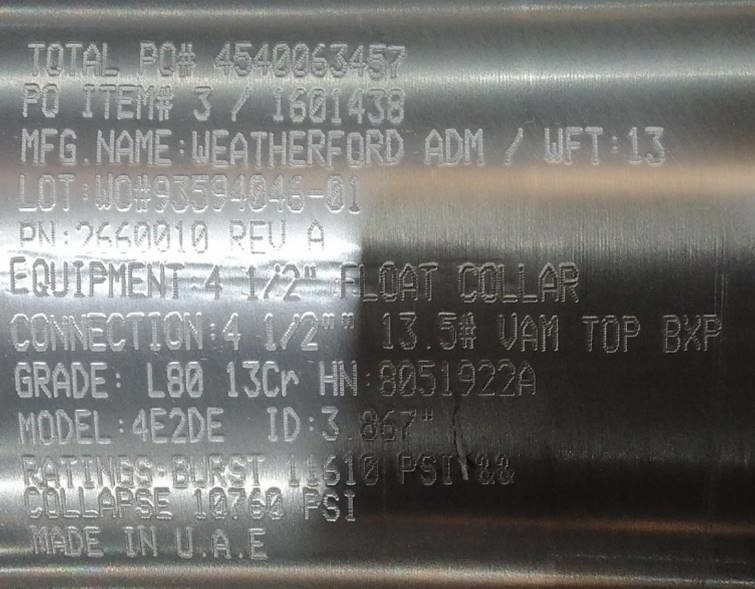character: (227, 76, 258, 124), (698, 308, 727, 356), (184, 84, 219, 123), (343, 172, 372, 218), (513, 257, 539, 307), (535, 257, 562, 305), (640, 123, 669, 167), (433, 308, 462, 352), (181, 306, 208, 353), (455, 261, 483, 306), (7, 309, 35, 354), (459, 124, 488, 167), (264, 126, 290, 172), (46, 310, 72, 356), (49, 402, 76, 446), (501, 125, 529, 167), (315, 400, 343, 442), (583, 123, 608, 170), (541, 124, 567, 169), (7, 253, 34, 296), (280, 262, 307, 305), (322, 170, 347, 216), (494, 258, 519, 304), (419, 126, 447, 167), (392, 309, 419, 351), (575, 312, 602, 354), (89, 406, 116, 448), (478, 258, 501, 307), (167, 170, 192, 215), (659, 311, 684, 356), (494, 311, 522, 351), (386, 40, 413, 81), (151, 82, 178, 123), (18, 123, 42, 169), (678, 310, 702, 356), (395, 356, 419, 402), (188, 171, 213, 215), (123, 308, 148, 352), (381, 124, 407, 166), (617, 314, 643, 356), (238, 355, 264, 397), (356, 260, 380, 305), (416, 259, 440, 304), (93, 124, 118, 167), (111, 123, 136, 166), (161, 308, 186, 351), (375, 406, 403, 444), (323, 126, 346, 172), (130, 169, 153, 215), (29, 251, 51, 299), (259, 260, 283, 304), (84, 310, 108, 354), (219, 310, 243, 354), (413, 355, 437, 399), (364, 39, 389, 81), (53, 171, 78, 213), (47, 258, 72, 300), (371, 359, 399, 396), (112, 169, 135, 214), (376, 260, 399, 305), (559, 260, 582, 305), (28, 310, 51, 355), (97, 38, 121, 81), (132, 127, 156, 170), (266, 172, 290, 215), (264, 216, 288, 259), (536, 311, 560, 354), (32, 358, 56, 401), (454, 356, 478, 399), (305, 85, 330, 126), (360, 128, 385, 169), (104, 258, 129, 299), (316, 357, 341, 398), (15, 407, 40, 448), (72, 219, 98, 258), (184, 406, 210, 445), (152, 126, 175, 170), (562, 123, 584, 169), (337, 258, 360, 302), (133, 81, 157, 123), (91, 169, 115, 211), (208, 173, 232, 215), (105, 308, 126, 356), (49, 358, 73, 400), (148, 404, 172, 446), (278, 404, 302, 446), (142, 260, 167, 300), (11, 359, 36, 399), (183, 359, 208, 399), (131, 483, 156, 523), (20, 486, 47, 523), (262, 485, 289, 522), (151, 171, 173, 216), (227, 127, 250, 170), (457, 307, 478, 354), (113, 83, 137, 124), (189, 126, 213, 167), (86, 359, 110, 400), (494, 358, 518, 399), (53, 485, 81, 520), (134, 38, 159, 77), (286, 40, 311, 79), (383, 86, 408, 125), (274, 312, 299, 351), (515, 313, 540, 352), (396, 406, 421, 445), (209, 126, 231, 170), (305, 169, 327, 213), (309, 38, 332, 80), (38, 121, 59, 167), (296, 311, 319, 353), (277, 358, 300, 400), (232, 38, 256, 78), (345, 86, 369, 126), (164, 260, 188, 300), (247, 216, 269, 259), (397, 259, 419, 302), (435, 356, 457, 399), (259, 356, 280, 401), (345, 40, 368, 81), (76, 80, 99, 121), (203, 406, 227, 445), (94, 484, 118, 523), (318, 487, 343, 524), (248, 127, 269, 171), (516, 356, 538, 398), (59, 449, 81, 491), (25, 40, 48, 80), (35, 171, 58, 211), (227, 216, 250, 256), (414, 448, 437, 488), (186, 219, 213, 253), (210, 37, 234, 75), (264, 85, 288, 123), (288, 127, 309, 170), (305, 126, 326, 169), (126, 258, 147, 301), (242, 262, 263, 305), (365, 85, 387, 126), (246, 170, 268, 211), (336, 358, 358, 399), (475, 358, 497, 399), (262, 404, 284, 445), (174, 521, 196, 562), (57, 123, 77, 168), (287, 85, 310, 124), (286, 168, 305, 215), (18, 81, 42, 118), (357, 406, 381, 443), (247, 527, 273, 561), (16, 172, 37, 214), (599, 312, 620, 354), (189, 450, 210, 492), (157, 39, 179, 79), (86, 258, 108, 298), (145, 307, 165, 351), (38, 456, 63, 491), (19, 451, 42, 489), (224, 486, 247, 524), (624, 123, 645, 164), (67, 310, 88, 351), (329, 38, 349, 81), (327, 84, 347, 127), (444, 126, 464, 169), (253, 38, 275, 77), (220, 359, 242, 398), (97, 450, 119, 489), (169, 453, 191, 492), (153, 484, 175, 523), (142, 361, 165, 398), (115, 452, 138, 489), (338, 451, 361, 488), (303, 218, 328, 252), (345, 129, 366, 169), (77, 450, 97, 492), (245, 484, 266, 524), (300, 486, 324, 521), (29, 523, 53, 558), (137, 523, 161, 558), (151, 219, 173, 257), (207, 451, 230, 487), (206, 485, 229, 521), (69, 360, 89, 401), (72, 406, 92, 447), (44, 39, 65, 78), (77, 484, 98, 523), (113, 484, 134, 523), (37, 405, 56, 448), (162, 361, 184, 398), (228, 173, 248, 213), (435, 448, 455, 488), (177, 38, 196, 80), (272, 40, 293, 78), (94, 218, 115, 256), (131, 218, 153, 254), (361, 452, 383, 488), (64, 524, 87, 558), (376, 311, 396, 350), (16, 217, 38, 252), (299, 452, 321, 487), (82, 37, 101, 77), (96, 83, 116, 121), (204, 262, 224, 300), (342, 486, 362, 524), (113, 218, 134, 254), (319, 453, 341, 487), (136, 450, 154, 491), (70, 259, 87, 302), (259, 310, 276, 353), (64, 39, 83, 77), (41, 83, 61, 119), (48, 523, 68, 559), (131, 404, 150, 441), (227, 450, 246, 487), (42, 485, 61, 522), (188, 484, 207, 521), (37, 218, 57, 253), (282, 452, 302, 487), (169, 405, 186, 446), (396, 451, 415, 487), (245, 451, 264, 486), (84, 524, 104, 556), (121, 523, 138, 558), (170, 219, 186, 256), (213, 528, 229, 559)
